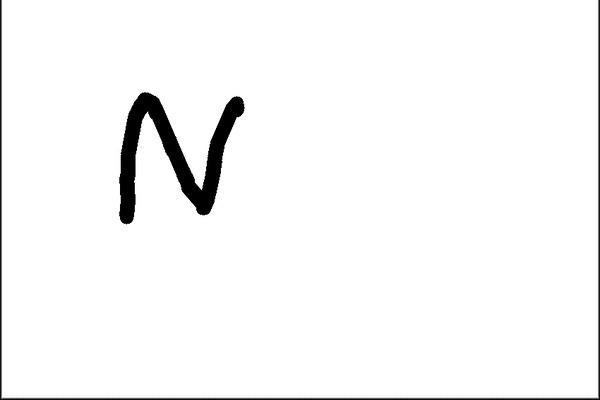N: (113, 84, 247, 228)
